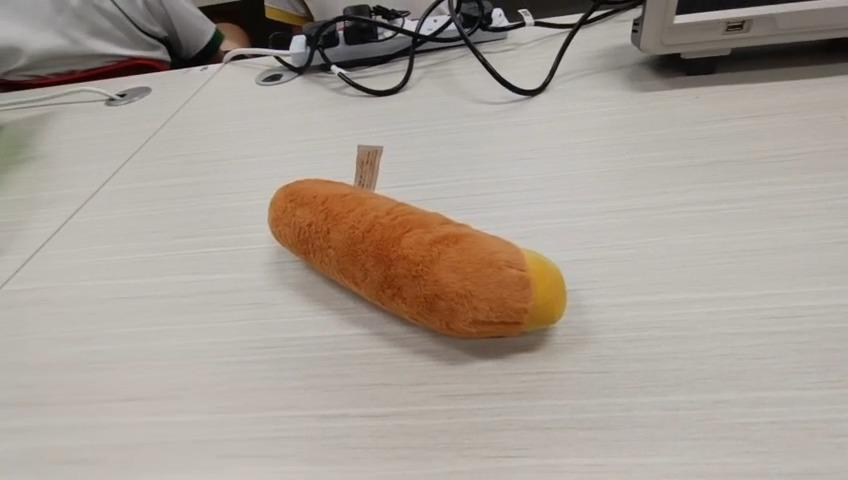hotdog: (267, 176, 567, 339)
